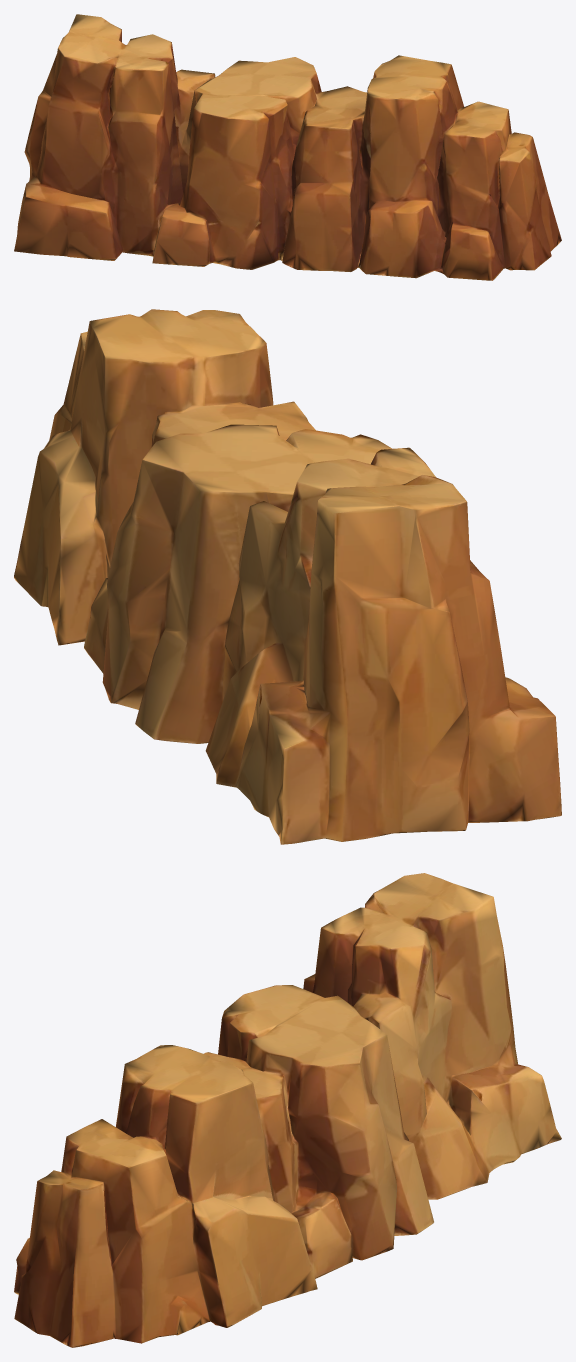
The model's file is cliff_ridge_sand.glb.
The picture shows the model from 3 angles, top to bottom: view 1: azimuth 30°, elevation 25°; view 2: azimuth 150°, elevation 25°; view 3: azimuth 270°, elevation 25°; orthographic projection. The views are drawn at different scales.
Visible parts, largest first — view 1: BakeLow; view 2: BakeLow; view 3: BakeLow.
Part boxes in pixels (x1,y1,x2,y2): BakeLow: [14, 14, 561, 280]; BakeLow: [14, 309, 561, 844]; BakeLow: [14, 873, 561, 1347].
Bounding box in the file's own units: 0.917 × 0.3914 × 0.7866.
Materials: 1 (1 with a texture image).
